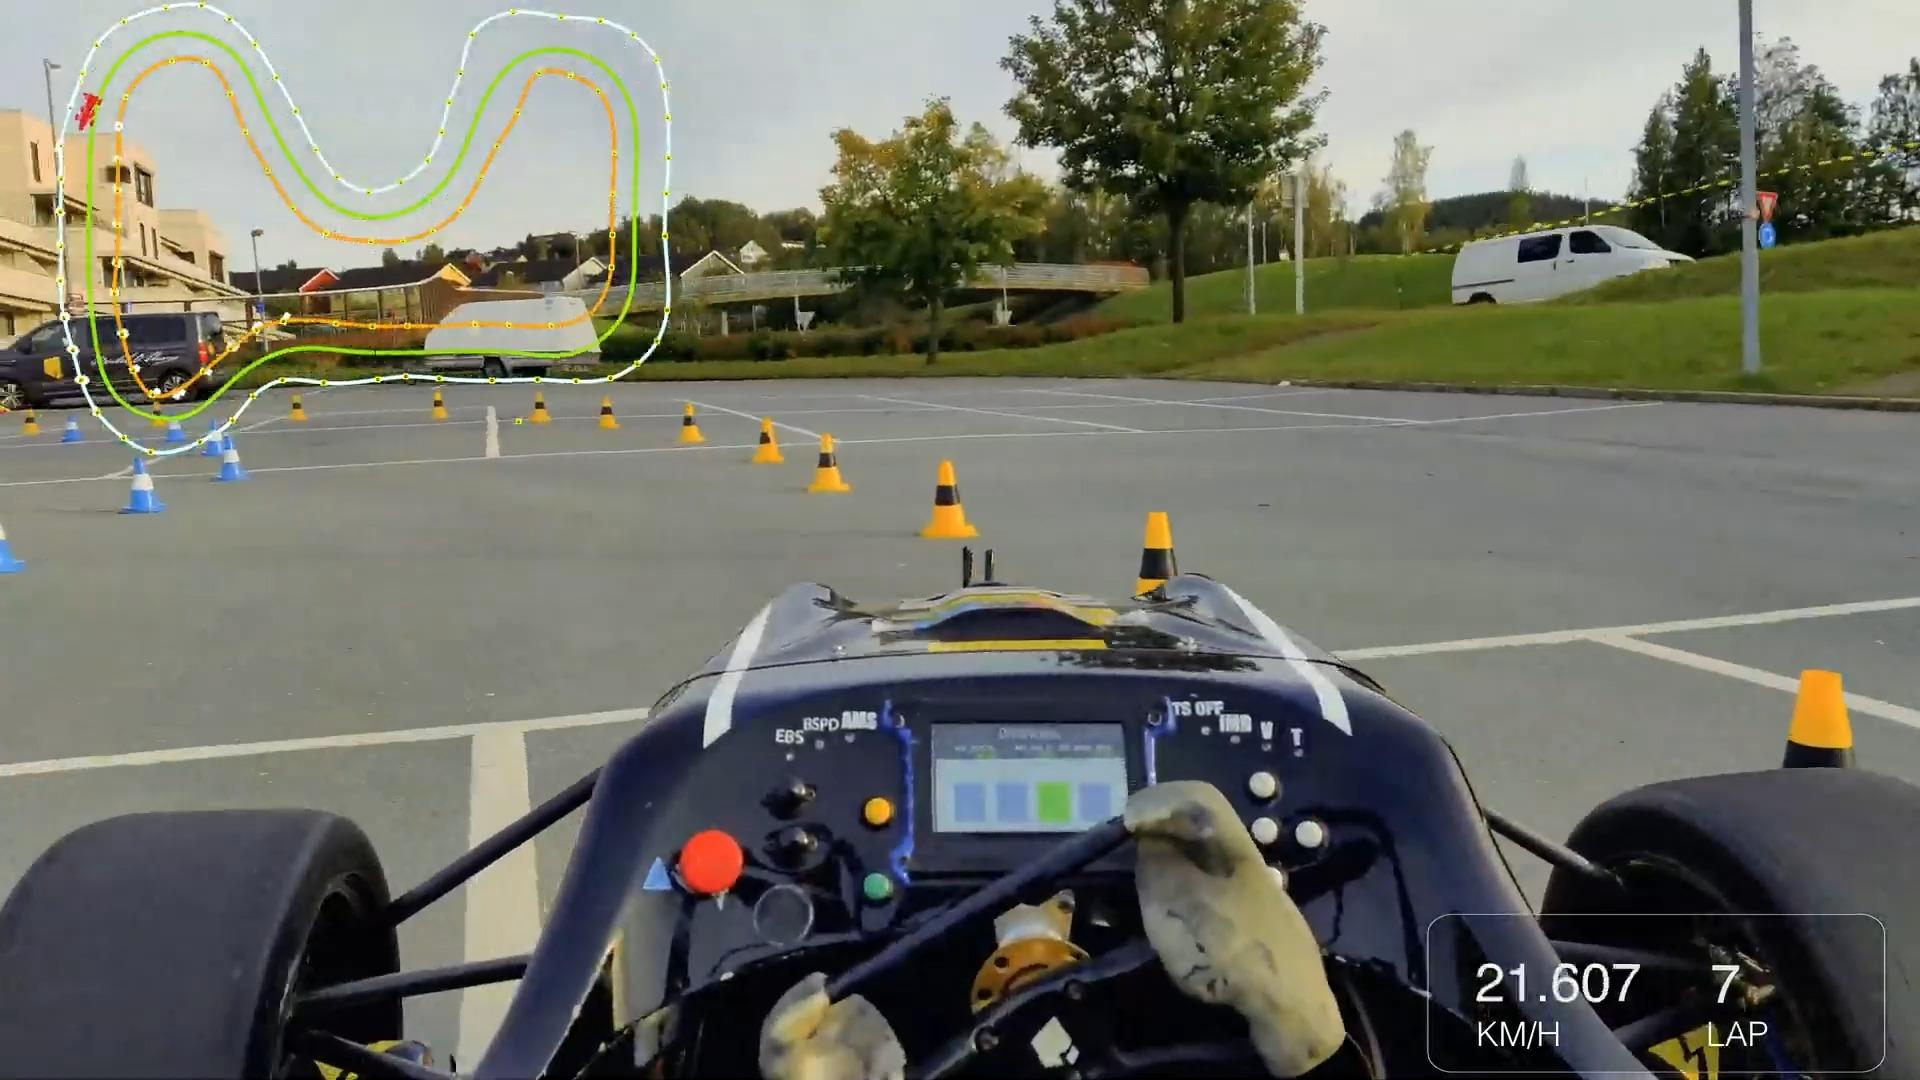blue_cone: (115, 451, 166, 516), (0, 495, 40, 578), (210, 434, 253, 484), (200, 418, 231, 456), (59, 411, 90, 446), (164, 410, 189, 444)
yellow_cone: (1751, 650, 1905, 914), (1113, 495, 1196, 624), (916, 454, 985, 546), (808, 427, 860, 496), (745, 411, 786, 465), (671, 400, 713, 447), (593, 392, 621, 430), (530, 390, 555, 426), (20, 402, 44, 439), (286, 393, 313, 426), (429, 388, 452, 422), (148, 401, 167, 429)
